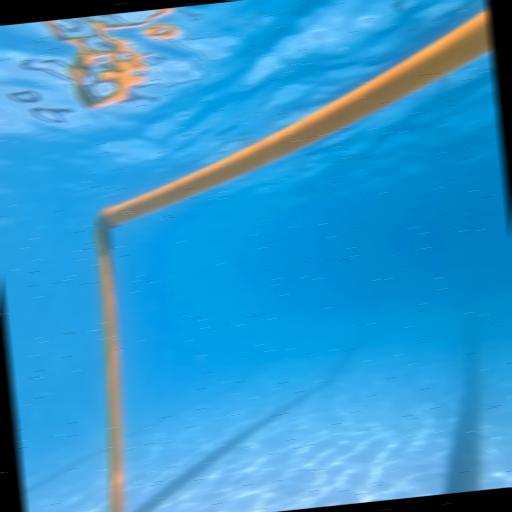gate: (59, 5, 512, 512)
